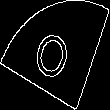O_SW: (32, 22, 78, 88)
